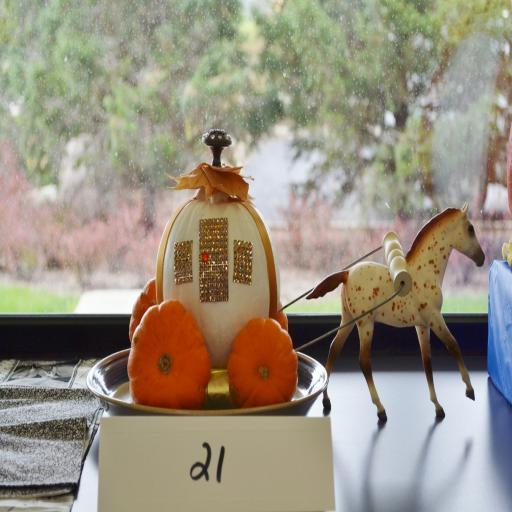horse: (306, 200, 484, 422)
